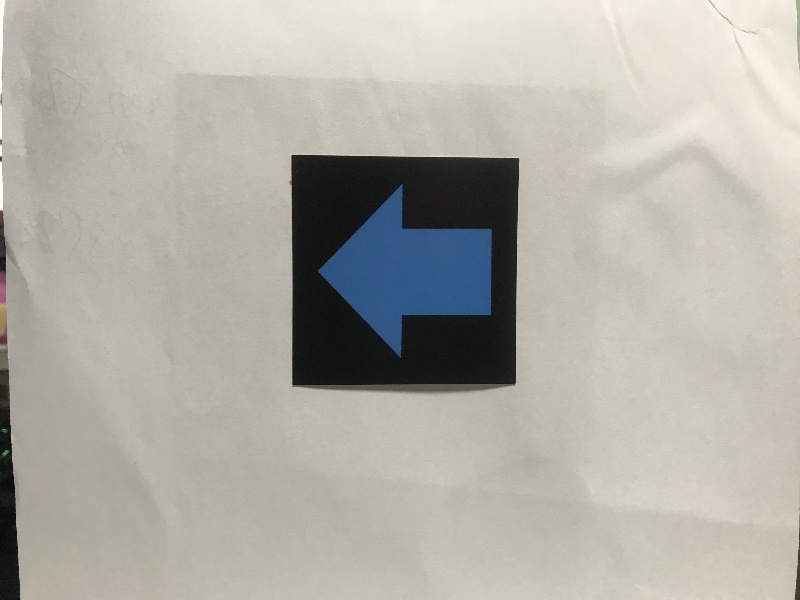LA-4: (297, 161, 515, 379)
